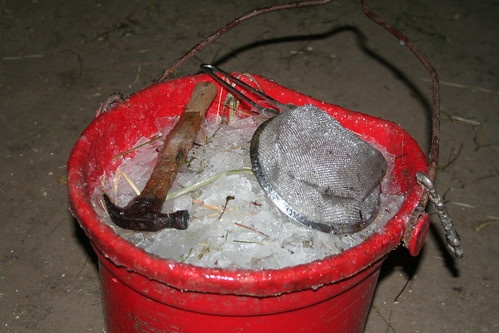hammer: (102, 78, 214, 230)
